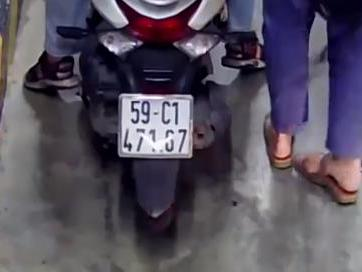num_plate: (119, 93, 194, 159)
